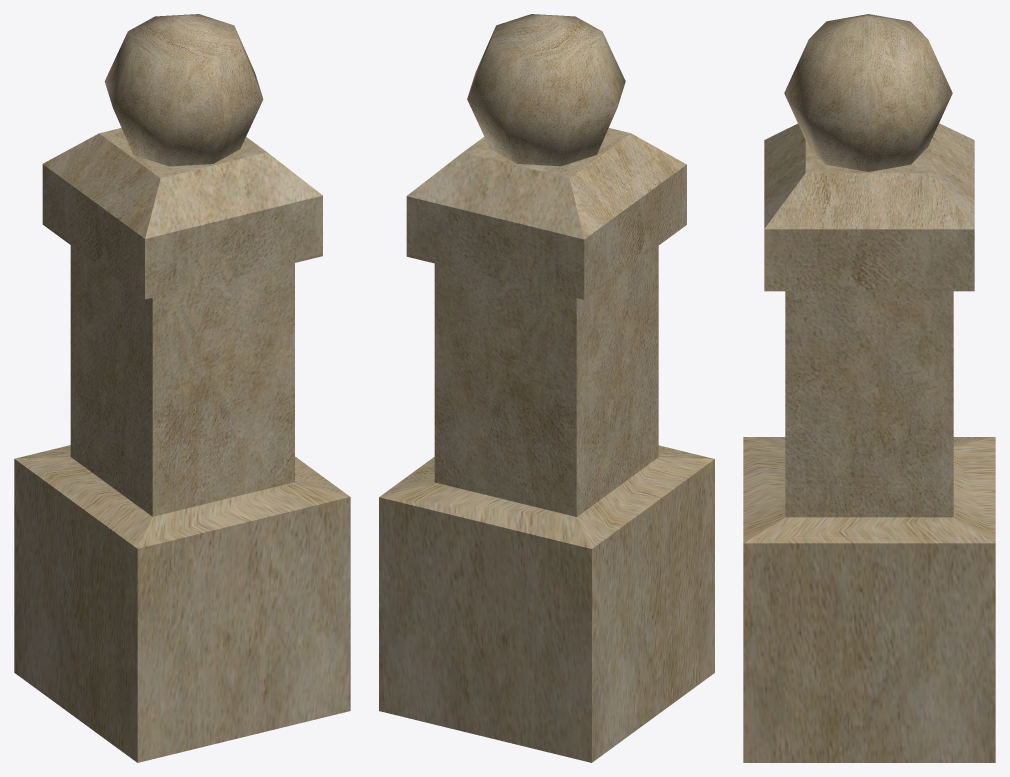
Rendered from thm_nboo_imprv_pillar_s07_l1.fbx.
3 renders of one model, left to right at view 1: azimuth 30°, elevation 25°; view 2: azimuth 150°, elevation 25°; view 3: azimuth 270°, elevation 25°, orthographic. The views are drawn at different scales.
Visible parts, largest first — view 1: mesh_node; view 2: mesh_node; view 3: mesh_node.
Boxes of the visible parts, bbox=[...] form: mesh_node: bbox=[14, 14, 350, 762]; mesh_node: bbox=[379, 14, 714, 762]; mesh_node: bbox=[743, 14, 995, 762].
Bounding box in the file's own units: 0.5982 × 1.81 × 0.5993.
